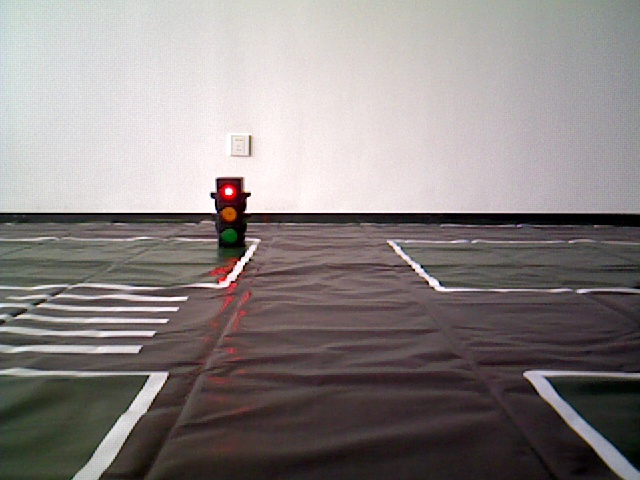red: (213, 178, 242, 250)
